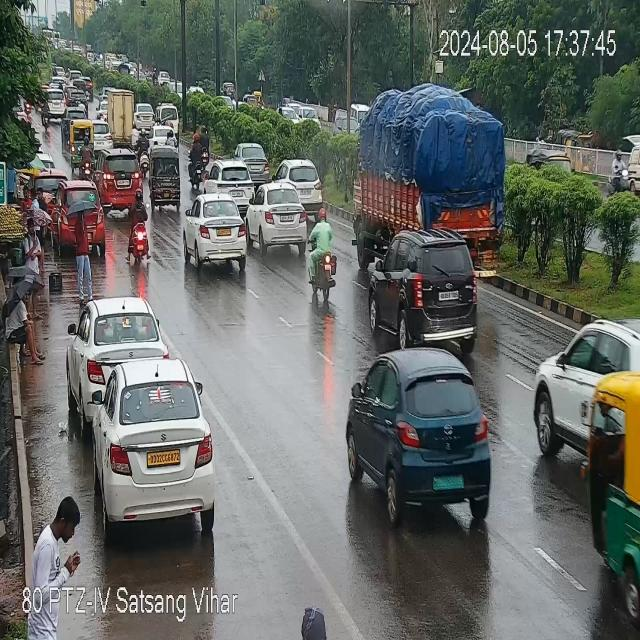2-wheelers: (309, 205, 343, 301), (603, 133, 640, 207), (127, 200, 151, 266), (189, 131, 212, 186)
auto: (588, 374, 638, 626), (148, 146, 182, 208), (65, 122, 98, 172)
car: (341, 350, 495, 518), (91, 360, 214, 530), (527, 317, 640, 466), (368, 227, 486, 347), (70, 296, 162, 405), (183, 196, 250, 268), (245, 186, 311, 251), (52, 184, 105, 253), (201, 160, 256, 203), (101, 149, 138, 209), (44, 88, 69, 119)
pedestrian: (24, 488, 80, 640)
truck: (352, 81, 508, 251), (105, 88, 137, 140)
